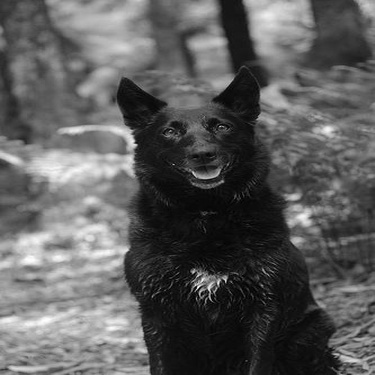dog: (88, 64, 346, 373)
